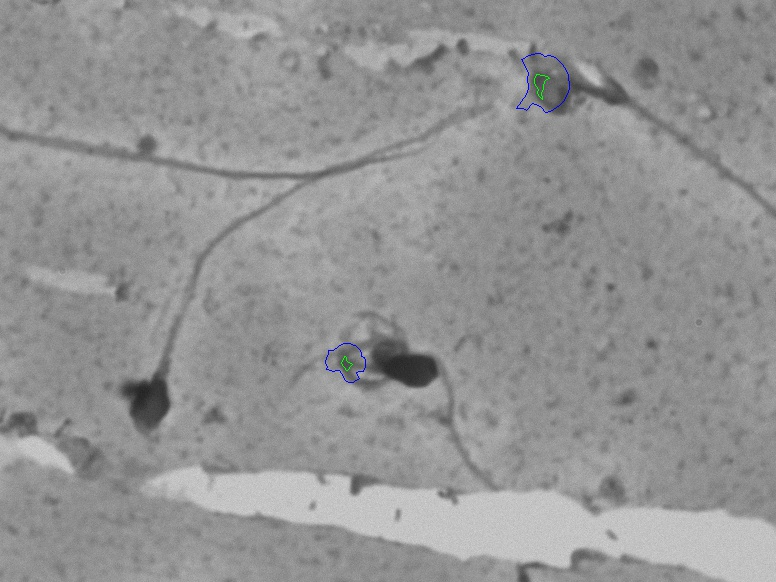Abnormal: (91, 214, 274, 439), (375, 308, 527, 490)
